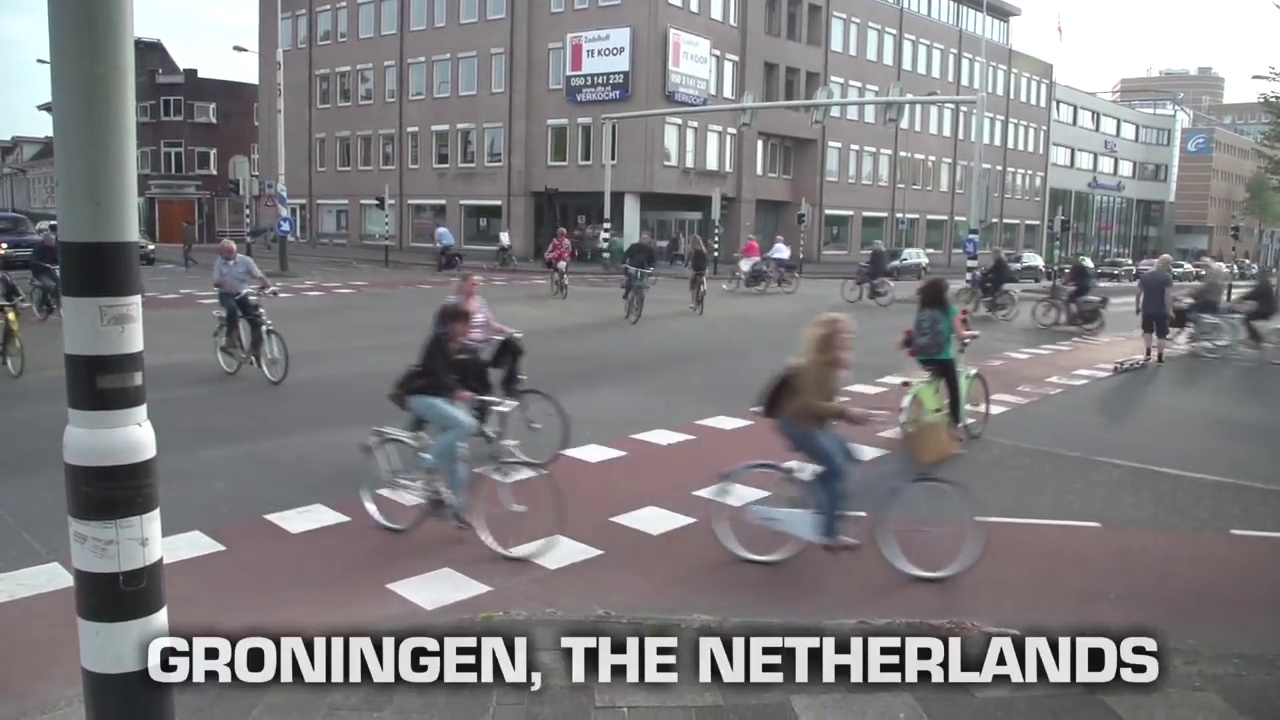cyclist_back: (886, 266, 995, 443), (541, 226, 582, 304), (676, 229, 709, 325)
cyclist_front: (615, 225, 657, 328)
cyclist_side: (716, 303, 1003, 587), (335, 305, 566, 571), (434, 263, 579, 470), (203, 239, 294, 384), (1032, 248, 1112, 336), (958, 245, 1026, 327), (845, 236, 899, 307), (754, 234, 806, 293), (726, 231, 769, 297)
